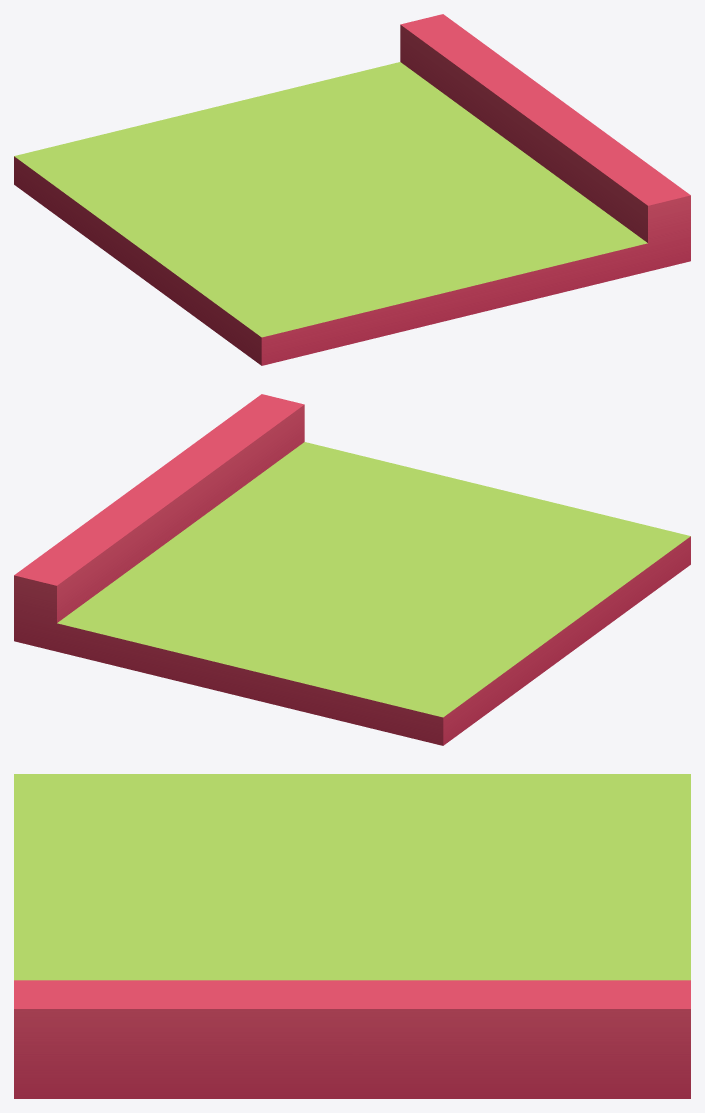
The model's file is side.gltf.
3 views of the same model, one above another, from view 1: azimuth 30°, elevation 25°; view 2: azimuth 150°, elevation 25°; view 3: azimuth 270°, elevation 25° (orthographic). The views are drawn at different scales.
Parts seen in each view (by area): view 1: side; view 2: side; view 3: side.
Boxes of the visible parts, box(x1,y1,x2,y2) form: side: box(14, 14, 690, 365); side: box(14, 394, 690, 745); side: box(14, 774, 690, 1098).
Size of the model in its own units: 0.9999 by 0.1467 by 0.9999.
1 material, 1 textured.
